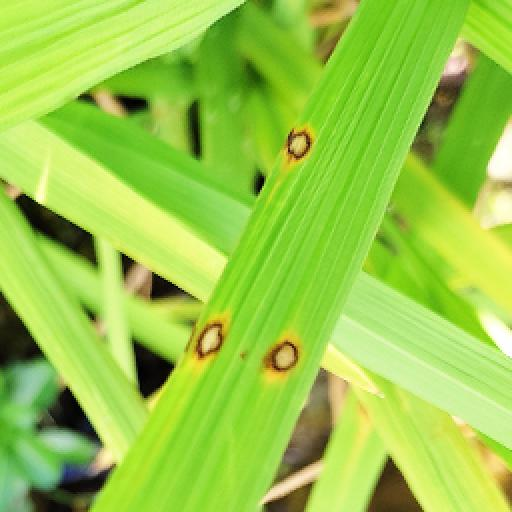Brown Spot: (184, 320, 230, 370), (260, 334, 306, 382), (276, 122, 320, 172)
